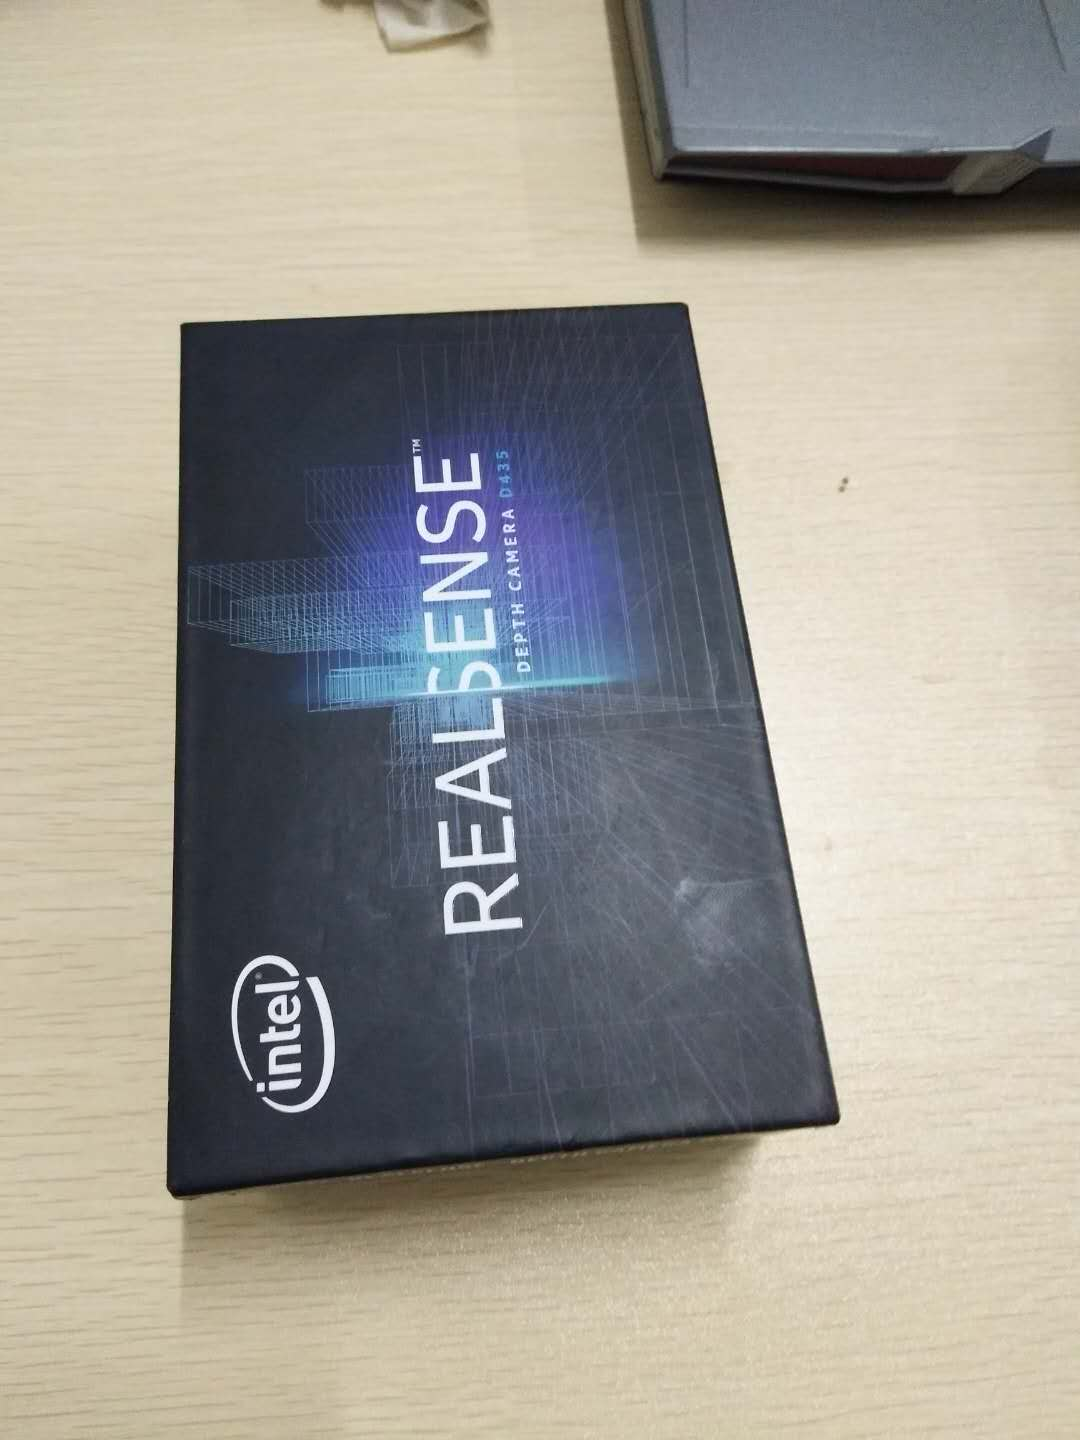box: (151, 310, 869, 1203)
